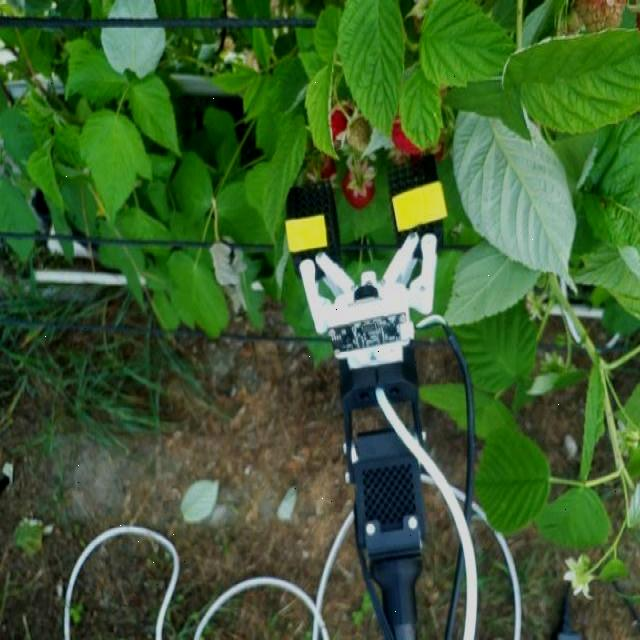Riped berries: (389, 107, 434, 161), (344, 160, 382, 207), (328, 98, 357, 139)
